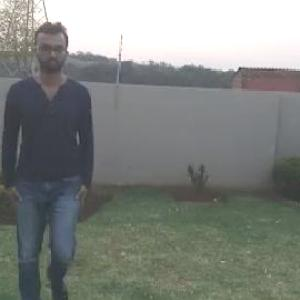follow: (3, 19, 94, 299)
